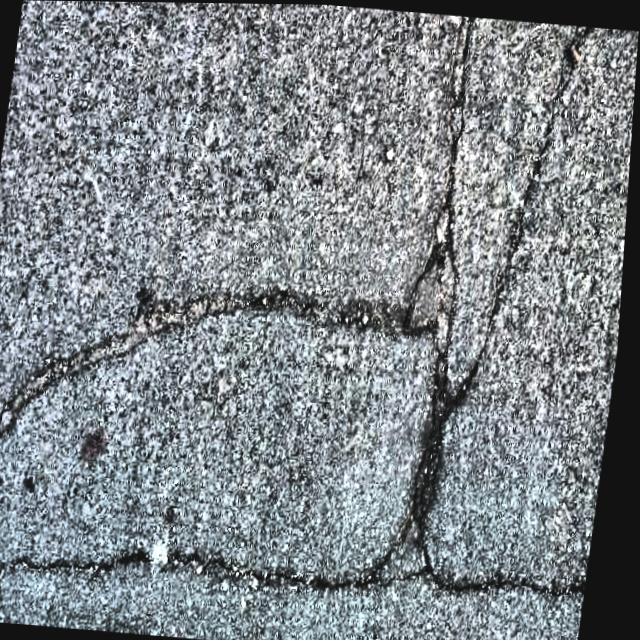cracks: (22, 288, 451, 415), (0, 550, 593, 593)
